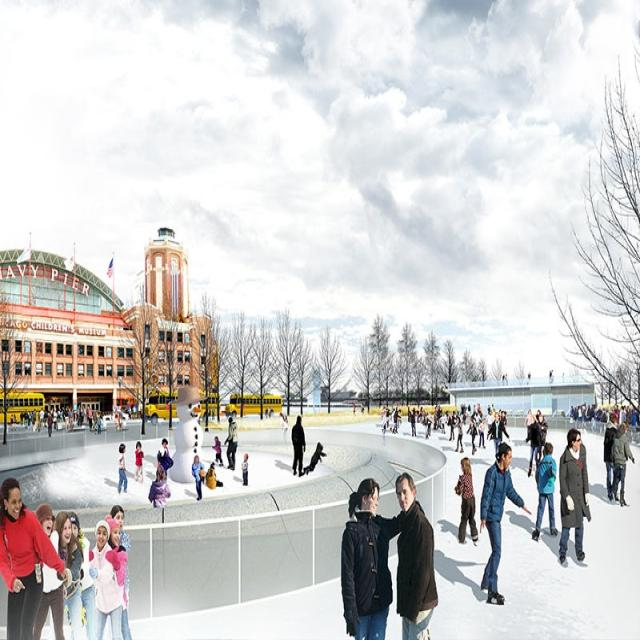body: (338, 475, 426, 639), (0, 476, 66, 640), (478, 440, 532, 609), (392, 470, 439, 639), (87, 512, 134, 640), (81, 517, 126, 639), (556, 425, 592, 569), (504, 510, 589, 569), (31, 501, 67, 640), (432, 517, 489, 604), (8, 402, 142, 438), (66, 510, 98, 640), (53, 511, 85, 627), (566, 400, 640, 441), (530, 440, 558, 542), (452, 454, 480, 548), (108, 502, 130, 616), (610, 420, 636, 508), (405, 403, 449, 441), (602, 411, 620, 503), (454, 402, 508, 431), (523, 412, 543, 479), (147, 462, 172, 511), (486, 411, 510, 462), (290, 413, 306, 478), (302, 440, 328, 476), (190, 453, 207, 503), (535, 412, 550, 467), (587, 481, 620, 506), (156, 436, 174, 481), (378, 403, 402, 436), (224, 415, 238, 471), (116, 441, 128, 495), (204, 460, 224, 490), (509, 456, 536, 476), (451, 414, 464, 454), (440, 441, 480, 453), (466, 417, 478, 456), (277, 410, 289, 448), (210, 434, 223, 468), (134, 440, 144, 481), (407, 406, 418, 438), (446, 409, 456, 442), (240, 451, 249, 487), (524, 407, 534, 439), (350, 399, 366, 419), (478, 416, 487, 448), (391, 405, 400, 435), (469, 457, 493, 468), (262, 404, 272, 423), (206, 405, 217, 422), (510, 439, 530, 446), (534, 407, 542, 423)
